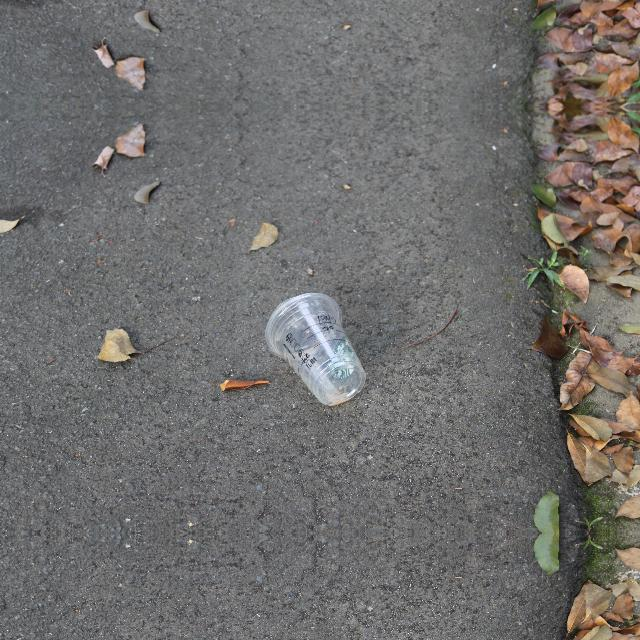Plastic: (264, 290, 368, 408)
